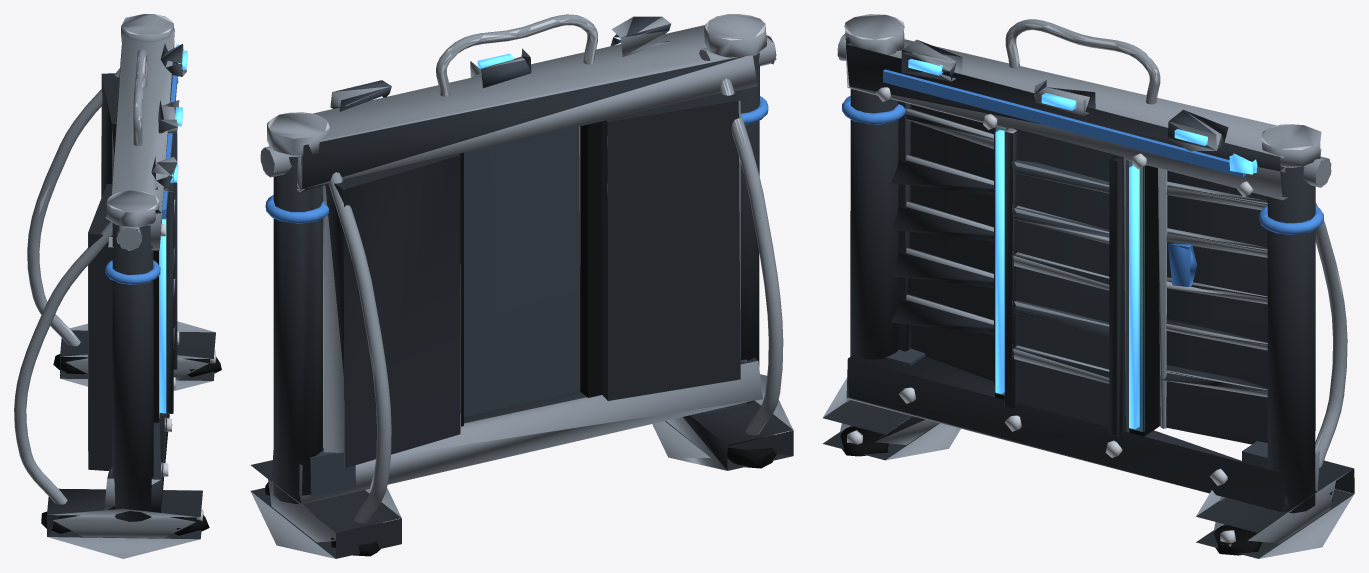
The model's file is shield.glb.
The picture shows the model from 3 angles, left to right: view 1: azimuth 30°, elevation 25°; view 2: azimuth 150°, elevation 25°; view 3: azimuth 270°, elevation 25°; orthographic projection. The views are drawn at different scales.
Parts seen in each view (by area): view 1: poste_1, pata_1, travesano_alto, losa_1, tirante_1, tirante_2, pata_2, costilla_3, losa_3, remate_1, travesano_bajo, hilo_luz_1 (+14 smaller); view 2: losa_1, losa_3, losa_2, travesano_alto, travesano_bajo, poste_2, pata_2, pata_1, ranura_1, tirante_2, tirante_1, poste_1 (+11 smaller); view 3: losa_2, travesano_bajo, losa_3, travesano_alto, poste_2, losa_1, poste_1, pata_2, ranura_2, cinta, pata_1, costilla_4 (+34 smaller).
Part boxes in pixels (x1=…): poste_1: x1=112, y1=223, x2=153, y2=521; pata_1: x1=47, y1=488, x2=202, y2=558; travesano_alto: x1=108, y1=28, x2=174, y2=250; losa_1: x1=88, y1=184, x2=112, y2=470; tirante_1: x1=14, y1=221, x2=112, y2=504; tirante_2: x1=27, y1=68, x2=119, y2=346; pata_2: x1=60, y1=321, x2=215, y2=390; costilla_3: x1=165, y1=191, x2=173, y2=413; losa_3: x1=101, y1=73, x2=119, y2=197; remate_1: x1=106, y1=190, x2=159, y2=227; travesano_bajo: x1=104, y1=412, x2=169, y2=512; hilo_luz_1: x1=159, y1=218, x2=166, y2=413; losa_1: x1=601, y1=93, x2=740, y2=400; losa_3: x1=324, y1=153, x2=460, y2=468; losa_2: x1=464, y1=126, x2=580, y2=416; travesano_alto: x1=297, y1=25, x2=757, y2=192; travesano_bajo: x1=271, y1=357, x2=762, y2=504; poste_2: x1=273, y1=155, x2=322, y2=504; pata_2: x1=250, y1=460, x2=401, y2=558; pata_1: x1=652, y1=374, x2=793, y2=470; ranura_1: x1=580, y1=121, x2=601, y2=397; tirante_2: x1=328, y1=172, x2=391, y2=523; tirante_1: x1=720, y1=78, x2=783, y2=435; poste_1: x1=734, y1=52, x2=759, y2=403; losa_2: x1=1006, y1=128, x2=1129, y2=432; travesano_bajo: x1=846, y1=354, x2=1319, y2=512; losa_3: x1=1158, y1=170, x2=1267, y2=444; travesano_alto: x1=845, y1=37, x2=1287, y2=200; poste_2: x1=1267, y1=166, x2=1315, y2=513; losa_1: x1=911, y1=104, x2=993, y2=381; poste_1: x1=850, y1=89, x2=898, y2=359; pata_2: x1=1196, y1=460, x2=1354, y2=558; ranura_2: x1=1129, y1=161, x2=1158, y2=436; cinta: x1=883, y1=69, x2=1245, y2=177; pata_1: x1=823, y1=377, x2=960, y2=460; costilla_4: x1=1109, y1=156, x2=1122, y2=435.
Bounding box in the file's own units: 0.6014 × 0.688 × 0.7253.
